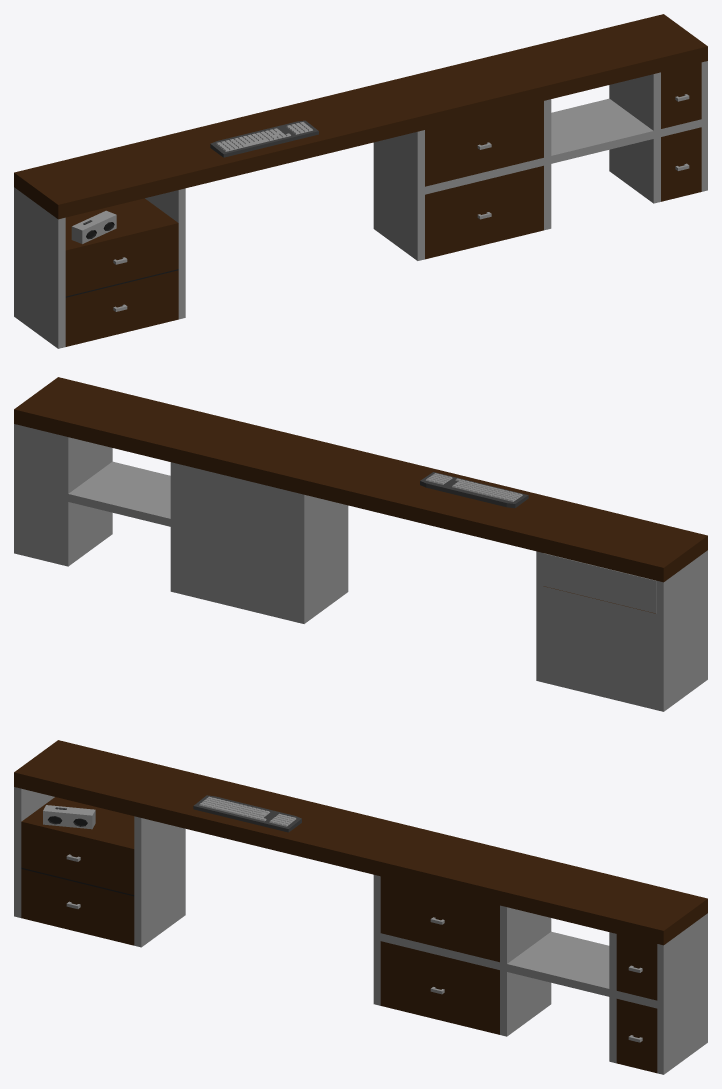
File: EscritorioCasa.FBX
3 views of the same model, one above another, from view 1: azimuth 30°, elevation 25°; view 2: azimuth 150°, elevation 25°; view 3: azimuth 330°, elevation 25° (orthographic).
Visible parts, largest first — view 1: EscritorioCasa; view 2: EscritorioCasa; view 3: EscritorioCasa.
Boxes of the visible parts, left/top/right/bottom form: EscritorioCasa: left=14, top=14, right=707, bottom=348; EscritorioCasa: left=14, top=377, right=707, bottom=711; EscritorioCasa: left=14, top=740, right=707, bottom=1074.
Bounding box in the file's own units: 16.79 × 3.69 × 2.11.
